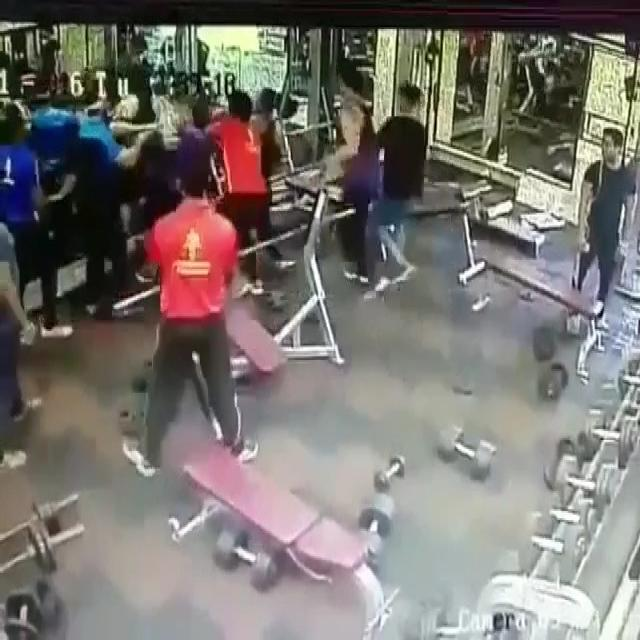fight: (97, 70, 251, 248)
